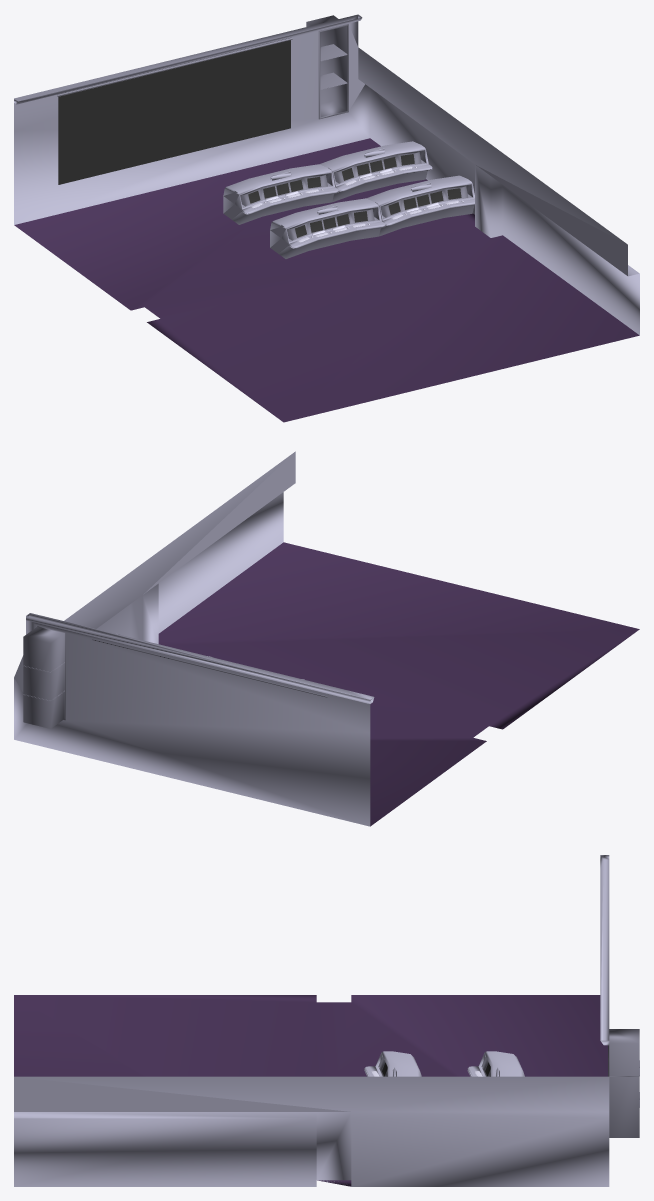
3 renders of one model, top to bottom at view 1: azimuth 30°, elevation 25°; view 2: azimuth 150°, elevation 25°; view 3: azimuth 270°, elevation 25°, orthographic. The views are drawn at different scales.
Parts seen in each view (by area): view 1: jscmiscon1_27, jscmiscon1_43, jscmiscon1_42, jscmiscon1_40, jscmiscon1_4, jscmiscon1_1, jscmiscon1_6, jscmiscon1_41, jscmiscon1_5, jscmiscon1; view 2: jscmiscon1_27, jscmiscon1_43, jscmiscon1_42, jscmiscon1_1; view 3: jscmiscon1_42, jscmiscon1_27, jscmiscon1_1, jscmiscon1_43, jscmiscon1_4.
Boxes of the visible parts, x1,y1,x2,y2 form: jscmiscon1_27: [14, 138, 639, 422]; jscmiscon1_43: [14, 14, 370, 224]; jscmiscon1_42: [358, 47, 639, 335]; jscmiscon1_40: [58, 40, 290, 184]; jscmiscon1_4: [223, 141, 474, 258]; jscmiscon1_1: [57, 15, 348, 119]; jscmiscon1_6: [240, 151, 472, 241]; jscmiscon1_41: [248, 154, 461, 237]; jscmiscon1_5: [242, 164, 474, 248]; jscmiscon1: [251, 166, 463, 242]; jscmiscon1_27: [158, 542, 639, 826]; jscmiscon1_43: [14, 613, 374, 826]; jscmiscon1_42: [64, 451, 295, 643]; jscmiscon1_1: [23, 625, 327, 728]; jscmiscon1_42: [14, 1076, 609, 1186]; jscmiscon1_27: [14, 995, 607, 1186]; jscmiscon1_1: [608, 1029, 639, 1137]; jscmiscon1_43: [600, 855, 609, 1045]; jscmiscon1_4: [375, 1051, 524, 1076].
Size of the model in its own units: 14.51 by 4.93 by 19.99.
